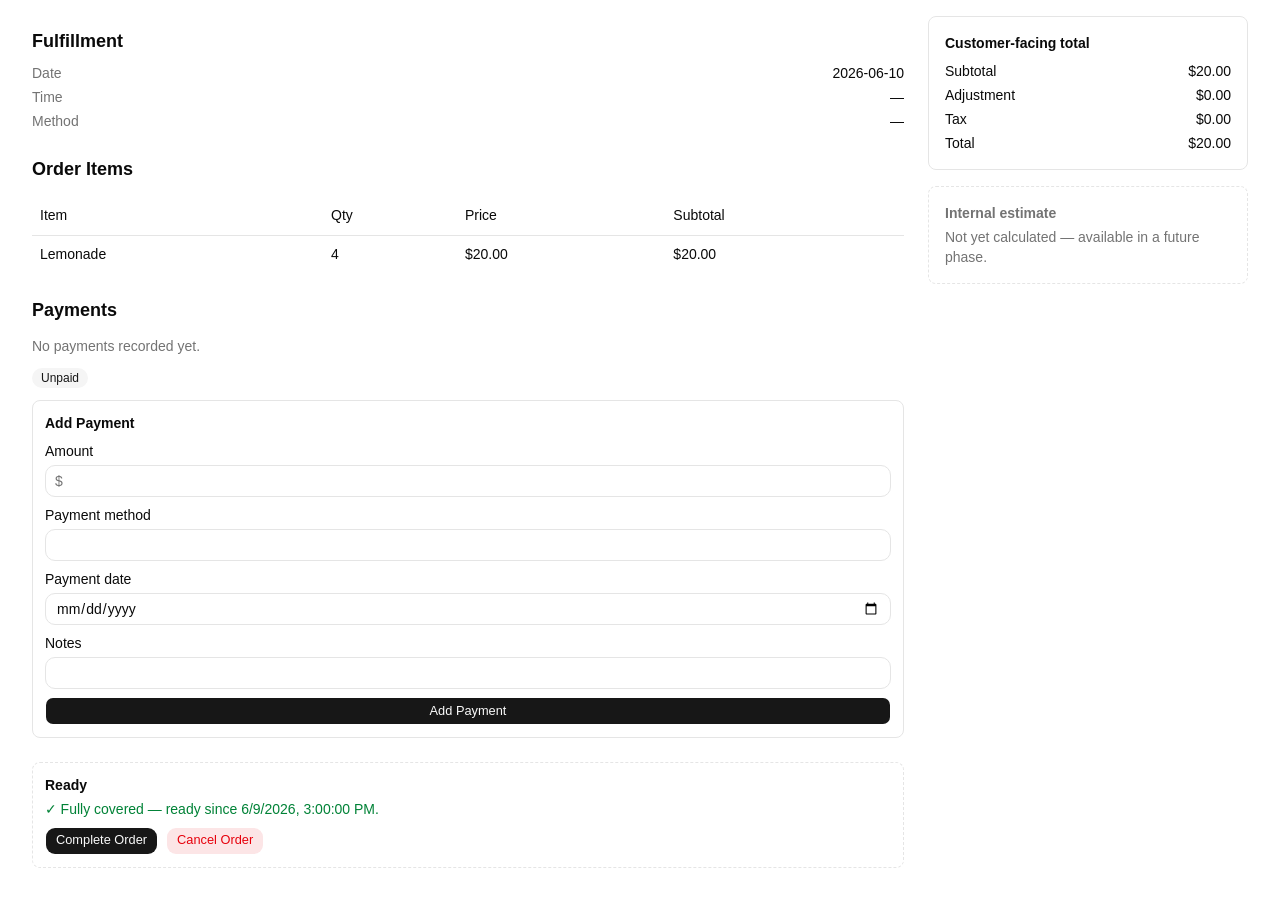
Order Details — Complete Order › asks for confirmation, explains consequences, and states payment is not required
(page scrolled)
Click the button "Complete Order": point(102, 840) 45,826 -> 158,854
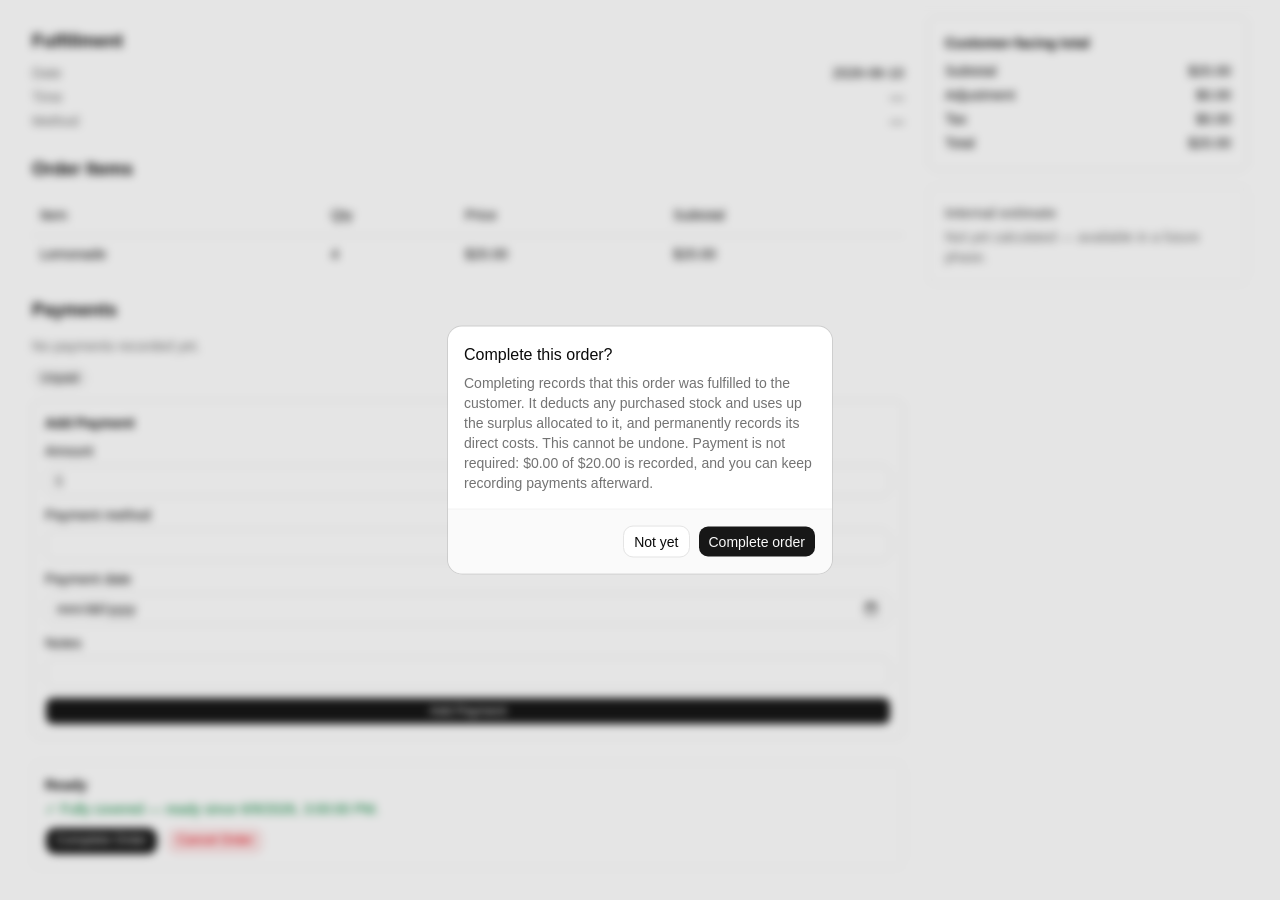
Expected: the text "cannot be undone" is shown, 464,374 -> 802,450
Expected: the text "$0.00 of $20.00 is recorded" is shown, 464,434 -> 812,490
Click the button "Not yet": point(656, 542) 623,526 -> 690,558
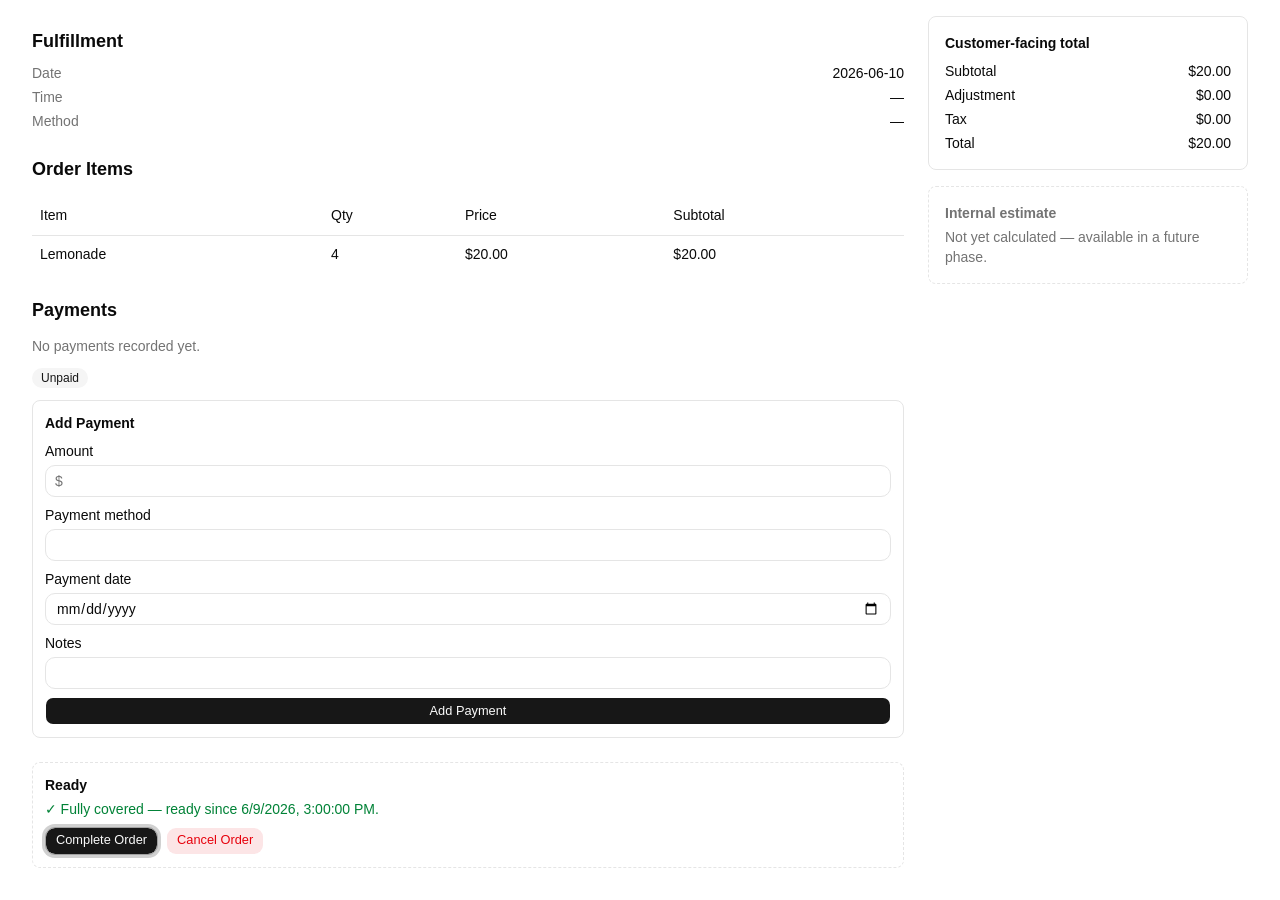
Expected: the dialog is gone
